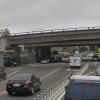Bridge: (8, 18, 97, 54)
